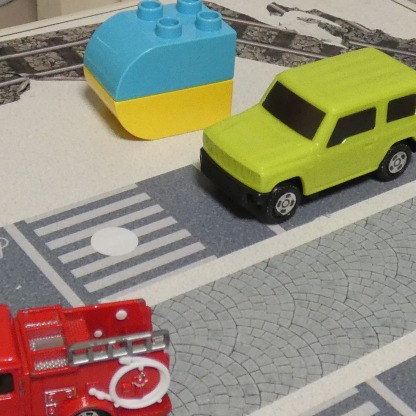car: (201, 44, 415, 224), (0, 299, 172, 415)
